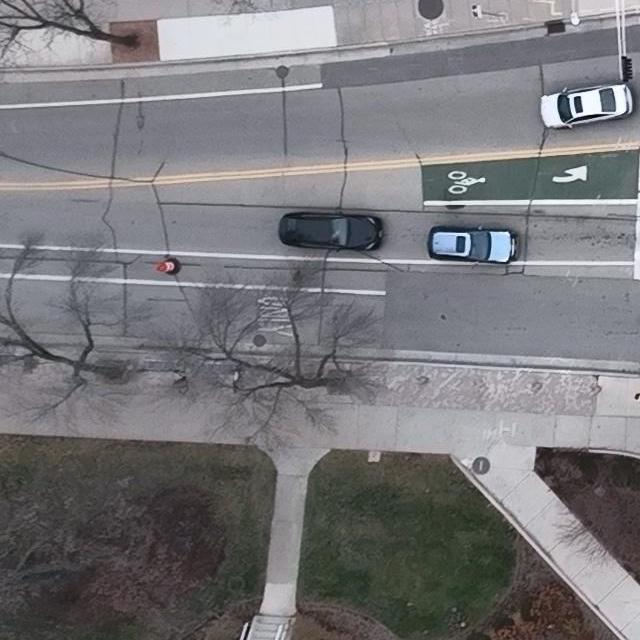car: (279, 211, 383, 253), (540, 83, 633, 129), (427, 225, 519, 266)
